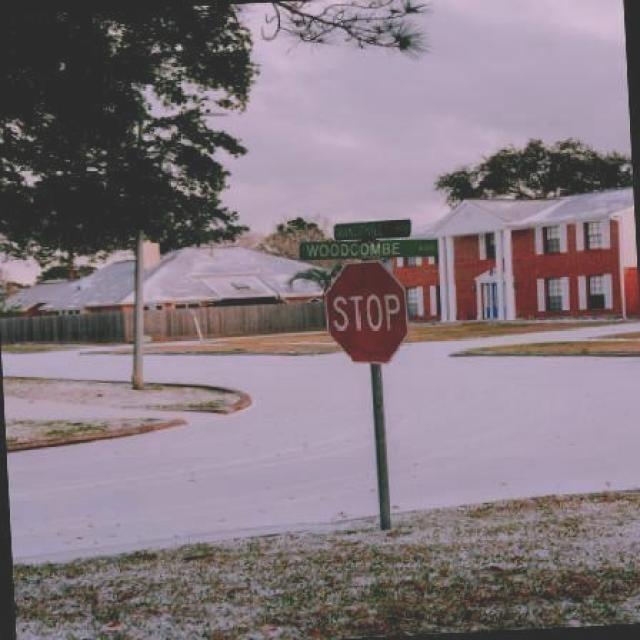Stop-Sign: (327, 262, 408, 362)
